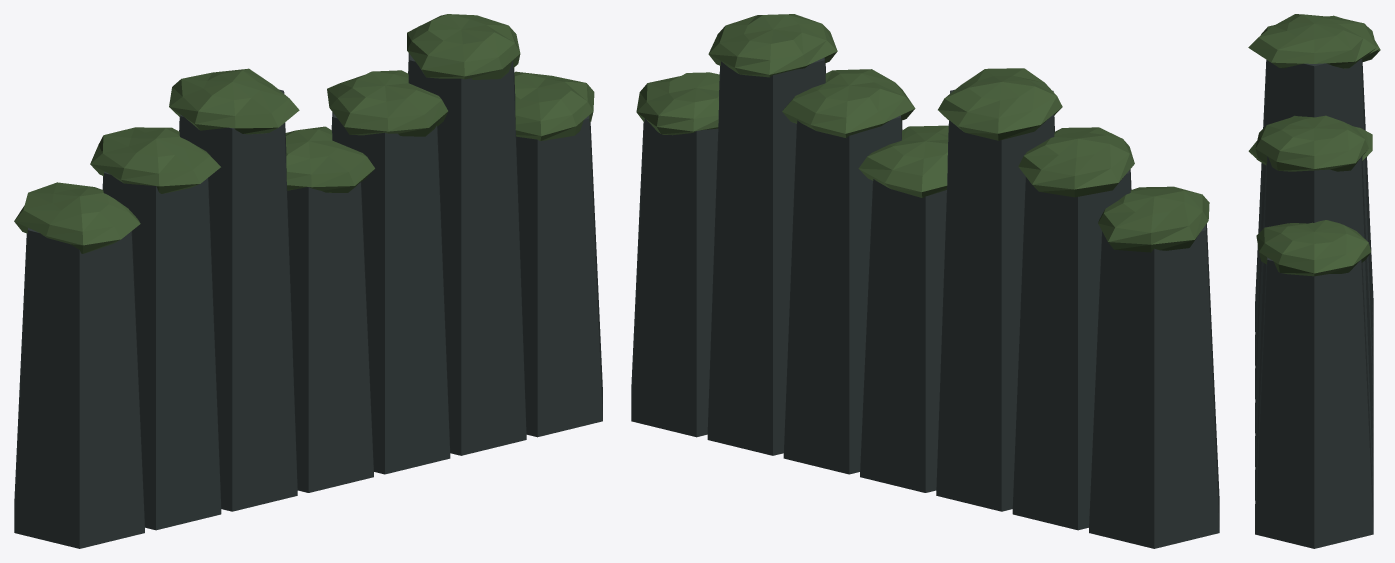
Rendered from BasaltCliff.fbx.
3 views of the same model, side by side, from view 1: azimuth 30°, elevation 25°; view 2: azimuth 150°, elevation 25°; view 3: azimuth 270°, elevation 25° (orthographic). The views are drawn at different scales.
Visible parts, largest first — view 1: BasaltCliff; view 2: BasaltCliff; view 3: BasaltCliff.
Part boxes in pixels (bbox=[...]): BasaltCliff: bbox=[14, 14, 602, 548]; BasaltCliff: bbox=[631, 14, 1219, 548]; BasaltCliff: bbox=[1248, 14, 1380, 548].
Bounding box in the file's own units: 432 × 279 × 92.84.
